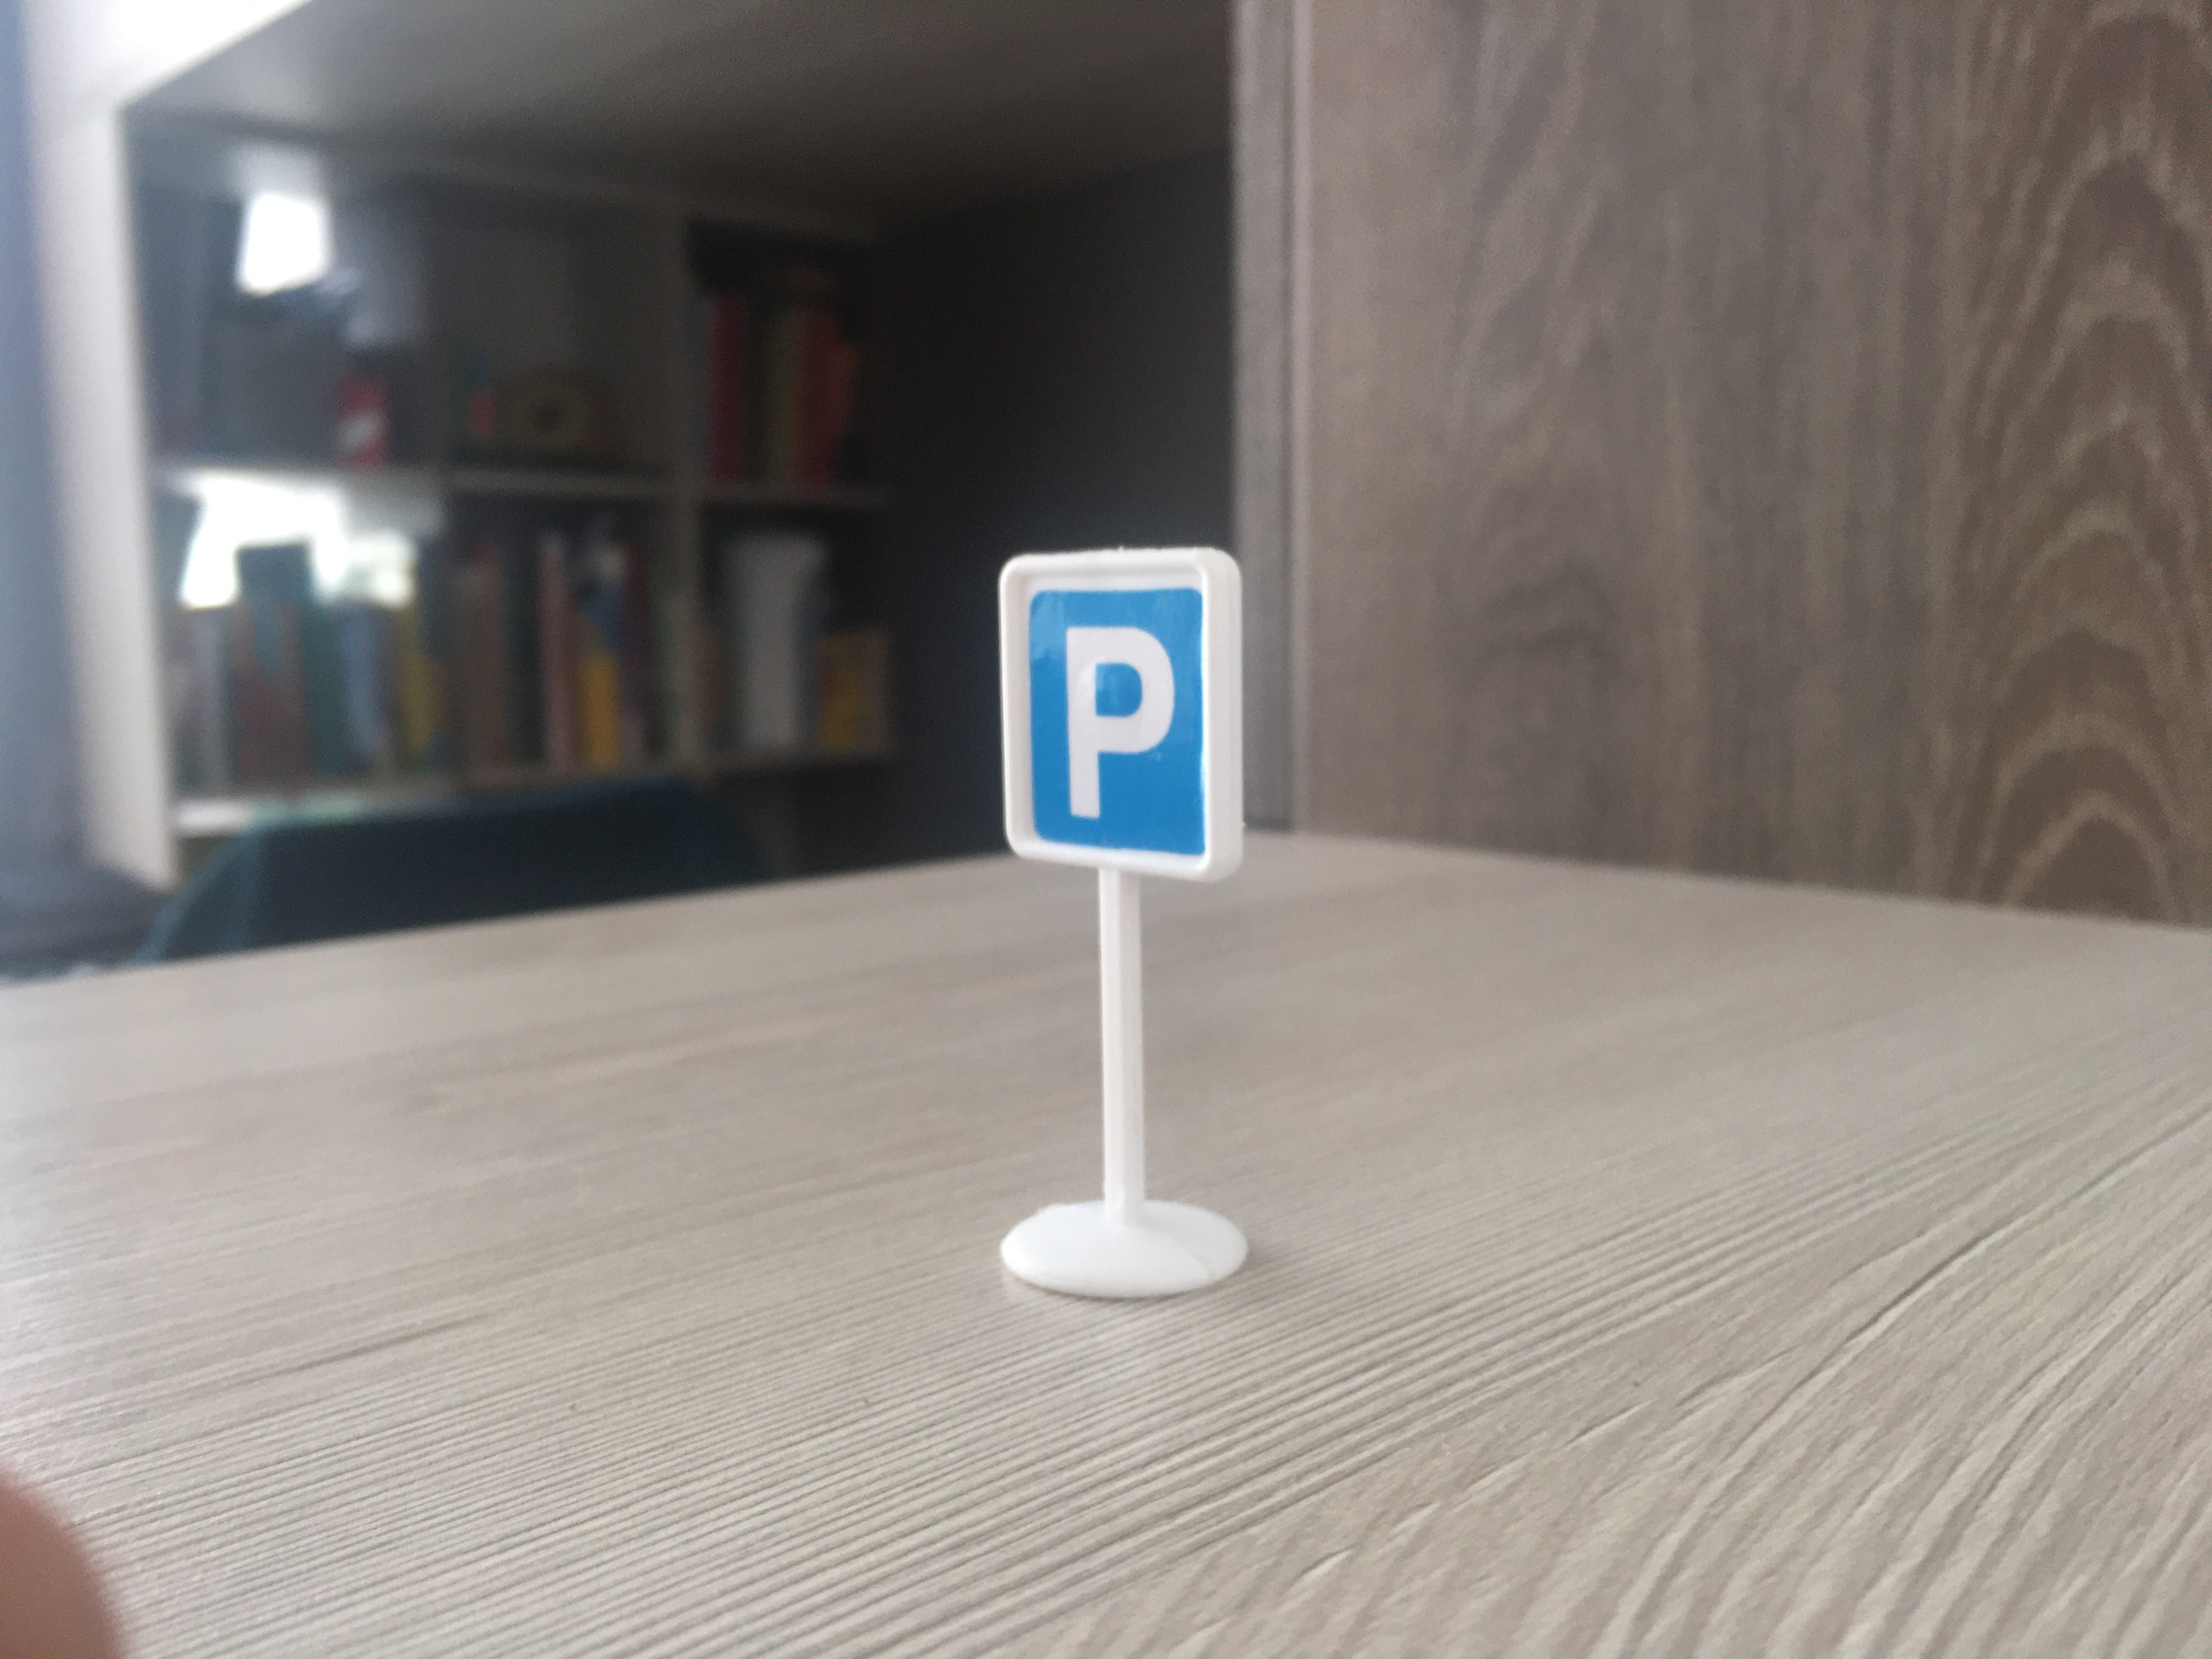parking: (982, 540, 1247, 884)
